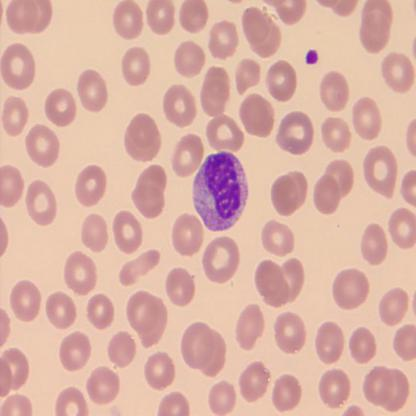Metamyelocyte: (191, 149, 250, 233)
